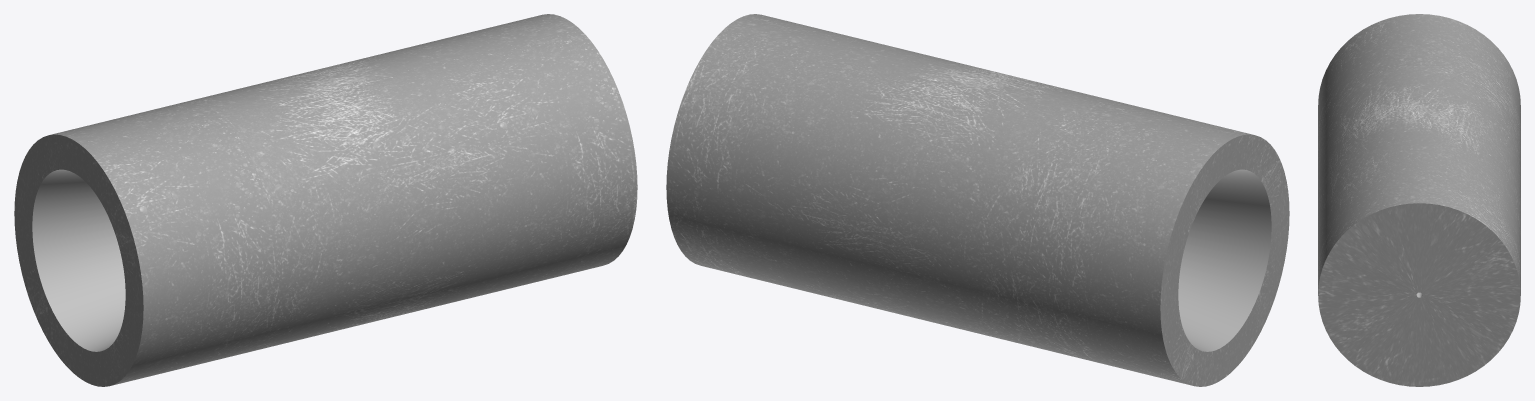
Rendered from Temp Water Pipe.fbx.
The picture shows the model from 3 angles, left to right: view 1: azimuth 30°, elevation 25°; view 2: azimuth 150°, elevation 25°; view 3: azimuth 270°, elevation 25°; orthographic projection. The views are drawn at different scales.
Parts seen in each view (by area): view 1: StraightPipe001; view 2: StraightPipe001; view 3: StraightPipe001.
Boxes of the visible parts, x1,y1,x2,y2 form: StraightPipe001: (14, 14, 637, 386); StraightPipe001: (666, 14, 1289, 386); StraightPipe001: (1318, 14, 1520, 386).
Size of the model in its own units: 4334 by 1963 by 1963.
Materials: 2 (1 with a texture image).
